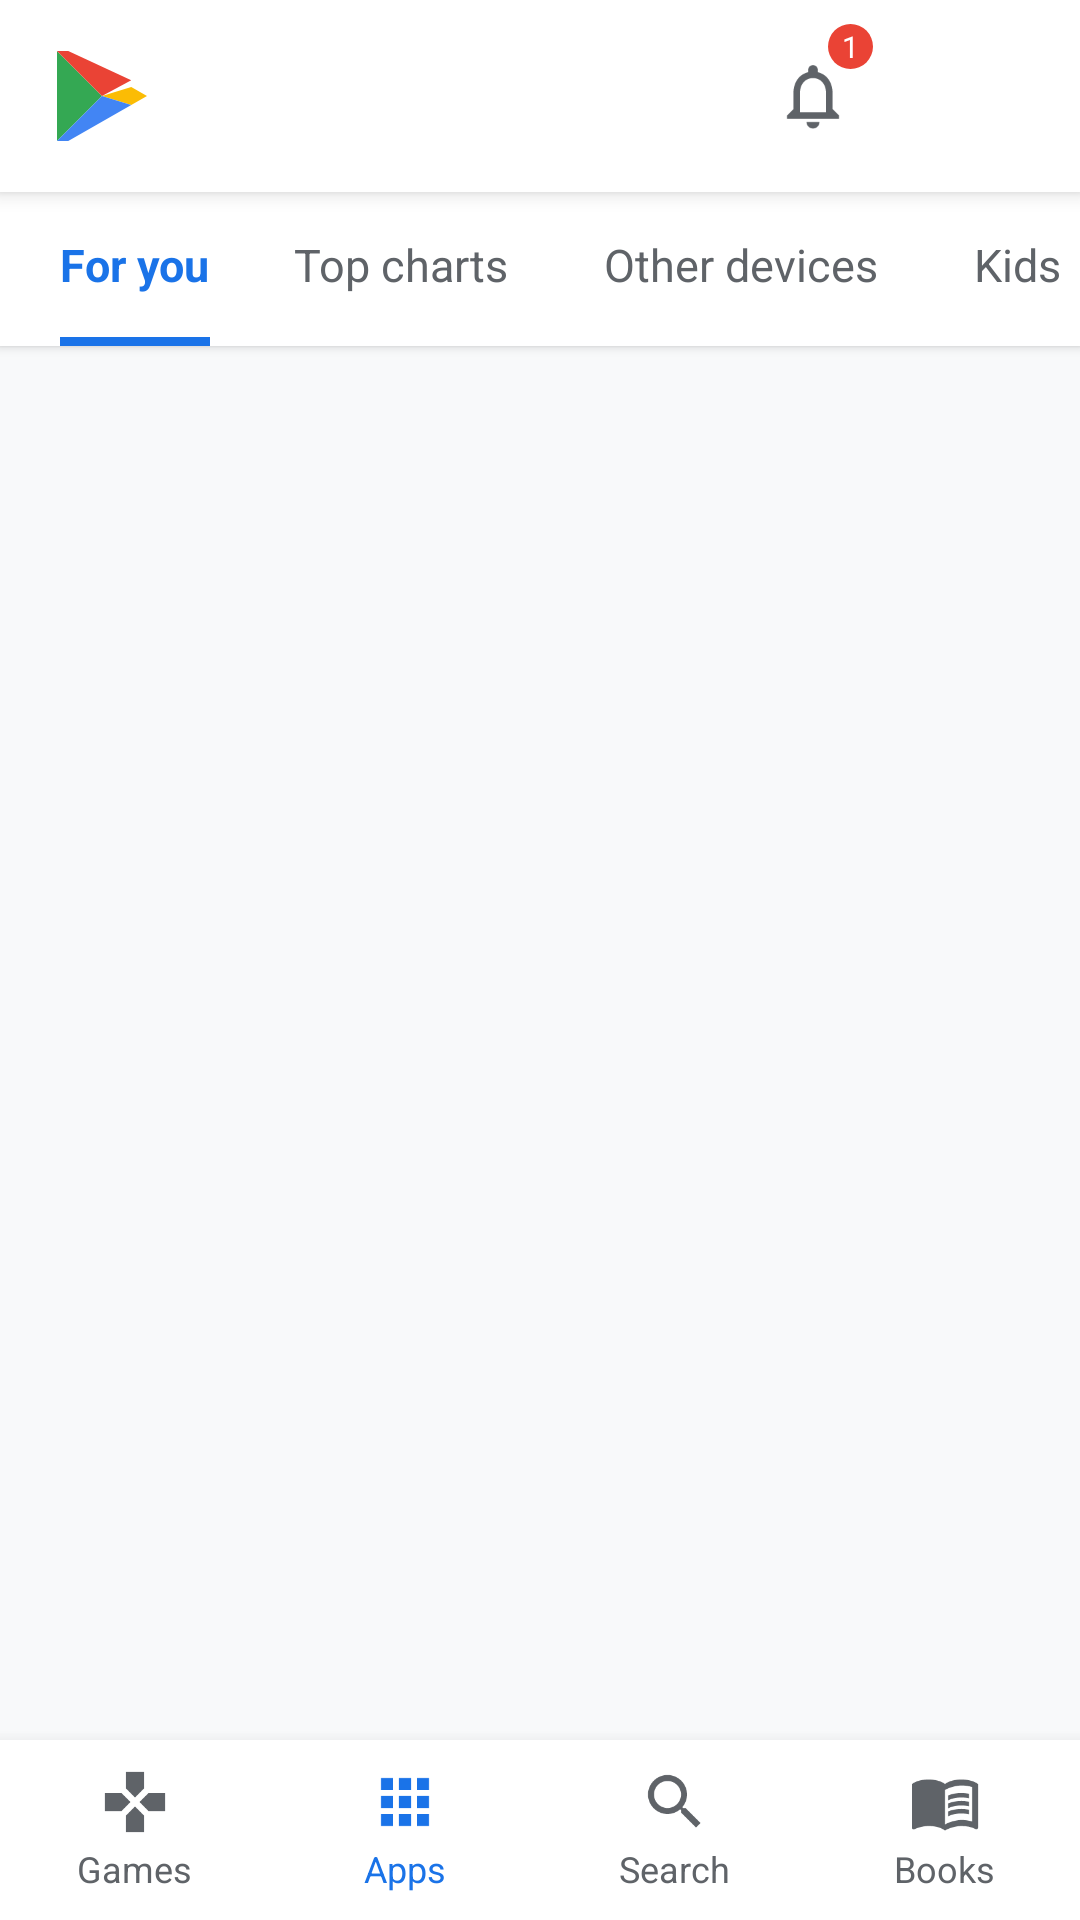

Locate icon controls on the screen. Image size 1080*1920, boxes as (x1, y1, x2, y2).
notification: (787, 65, 839, 129)
